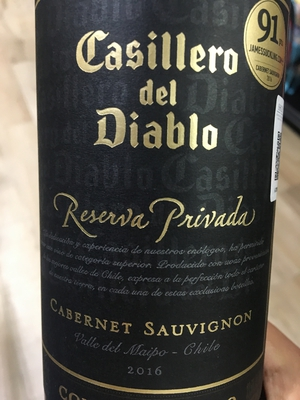casillero del diablo reserva privada cabernet sauvignon: (31, 1, 282, 400)
